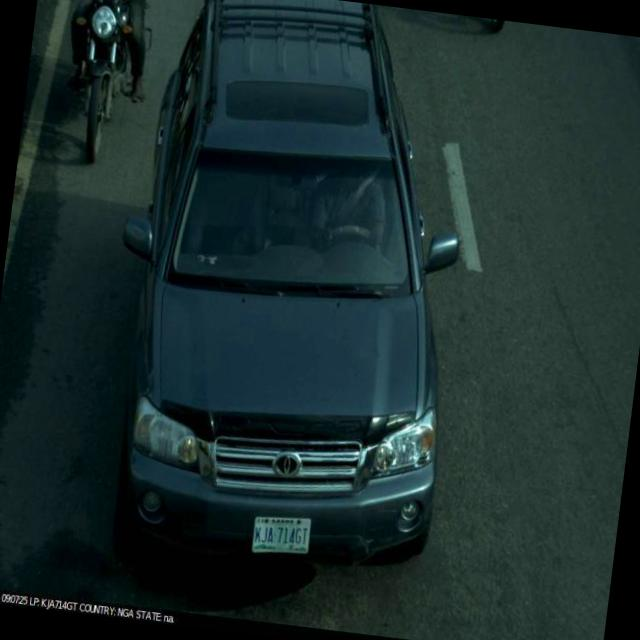person_with_seatbelt: (282, 154, 400, 277)
